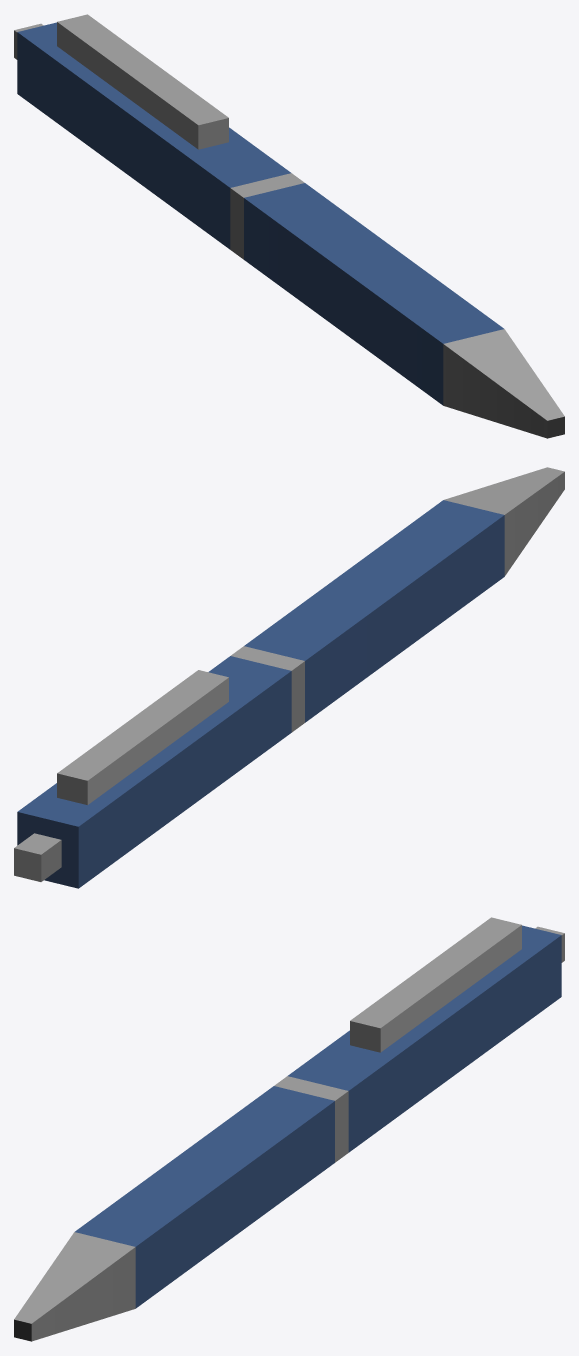
Rendered from SO_Pen_02.fbx.
3 renders of one model, top to bottom at view 1: azimuth 30°, elevation 25°; view 2: azimuth 150°, elevation 25°; view 3: azimuth 330°, elevation 25°, orthographic.
Parts seen in each view (by area): view 1: SO_Pen_02; view 2: SO_Pen_02; view 3: SO_Pen_02.
Boxes of the visible parts, x1,y1,x2,y2 form: SO_Pen_02: (14, 14, 564, 438); SO_Pen_02: (14, 467, 564, 888); SO_Pen_02: (14, 917, 564, 1341).
Bounding box in the file's own units: 0.0321 × 0.0431 × 0.4792.
